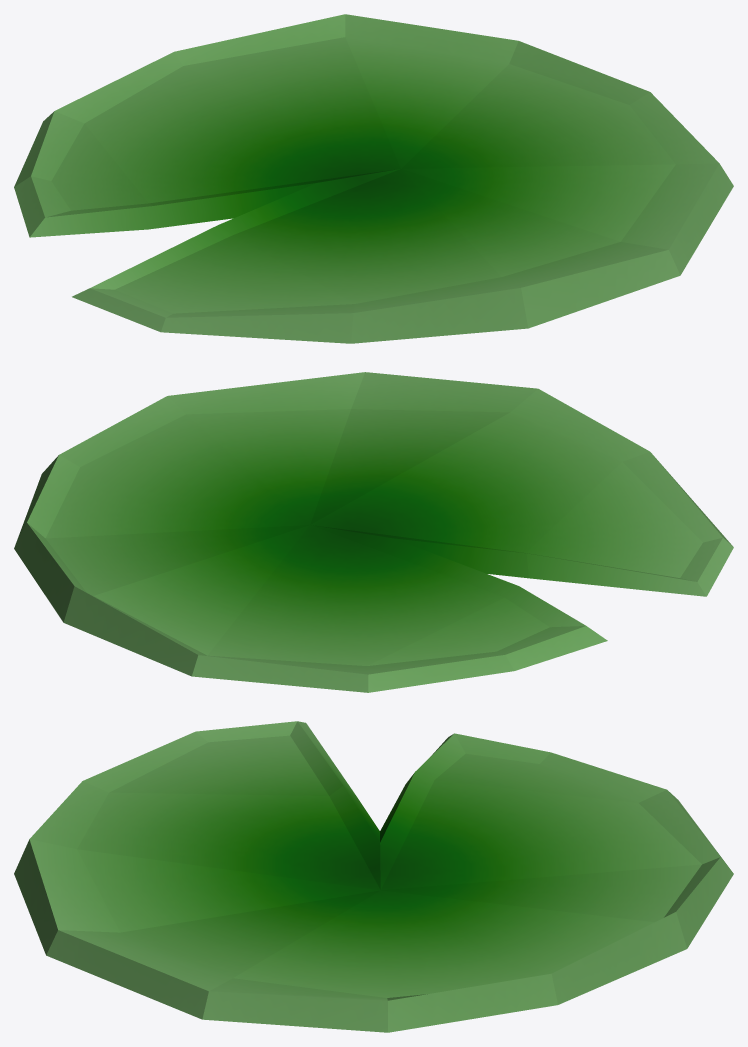
Rendered from PondPad-01.FBX.
The picture shows the model from 3 angles, top to bottom: view 1: azimuth 30°, elevation 25°; view 2: azimuth 150°, elevation 25°; view 3: azimuth 270°, elevation 25°; orthographic projection. The views are drawn at different scales.
Parts seen in each view (by area): view 1: PondPad-01; view 2: PondPad-01; view 3: PondPad-01.
Boxes of the visible parts, left/top/right/bottom form: PondPad-01: left=14, top=14, right=733, bottom=343; PondPad-01: left=14, top=372, right=733, bottom=692; PondPad-01: left=14, top=721, right=733, bottom=1032.
Size of the model in its own units: 59.67 by 3.13 by 58.59.
1 material, 1 textured.
